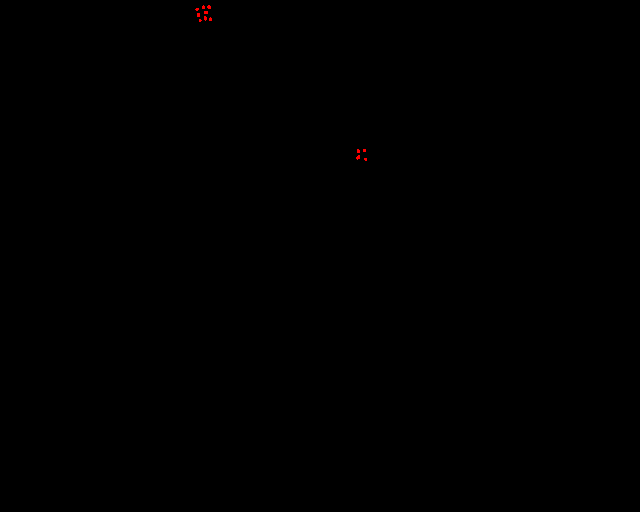Target: (356, 155, 360, 160), (207, 5, 211, 9), (204, 16, 207, 21), (202, 5, 205, 9), (195, 8, 199, 11), (204, 11, 208, 14), (197, 13, 200, 17), (209, 17, 212, 21), (357, 149, 360, 153), (199, 19, 202, 22), (363, 149, 366, 152), (364, 158, 367, 161)
